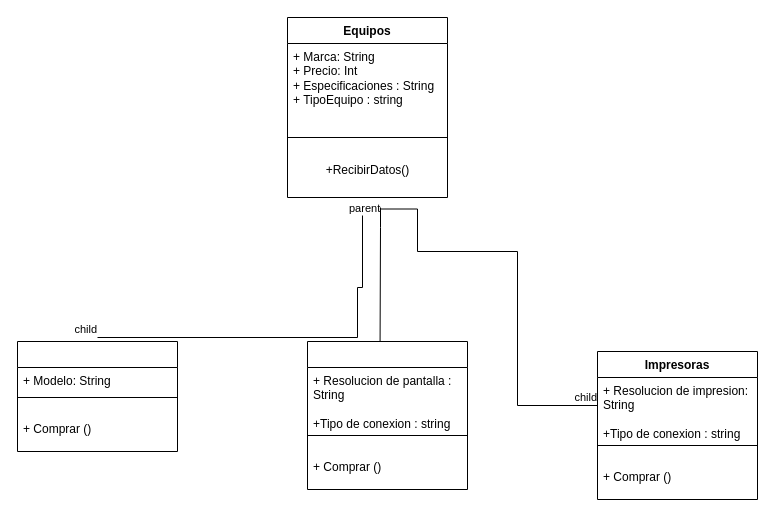
Image size: 775x520. Some labels were removed from this diagram. The box of each missing label's shape, as (x1, y1, x2, y2) in pixels:
Monitores: (306, 340, 468, 490)
Portatiles: (16, 340, 178, 452)
